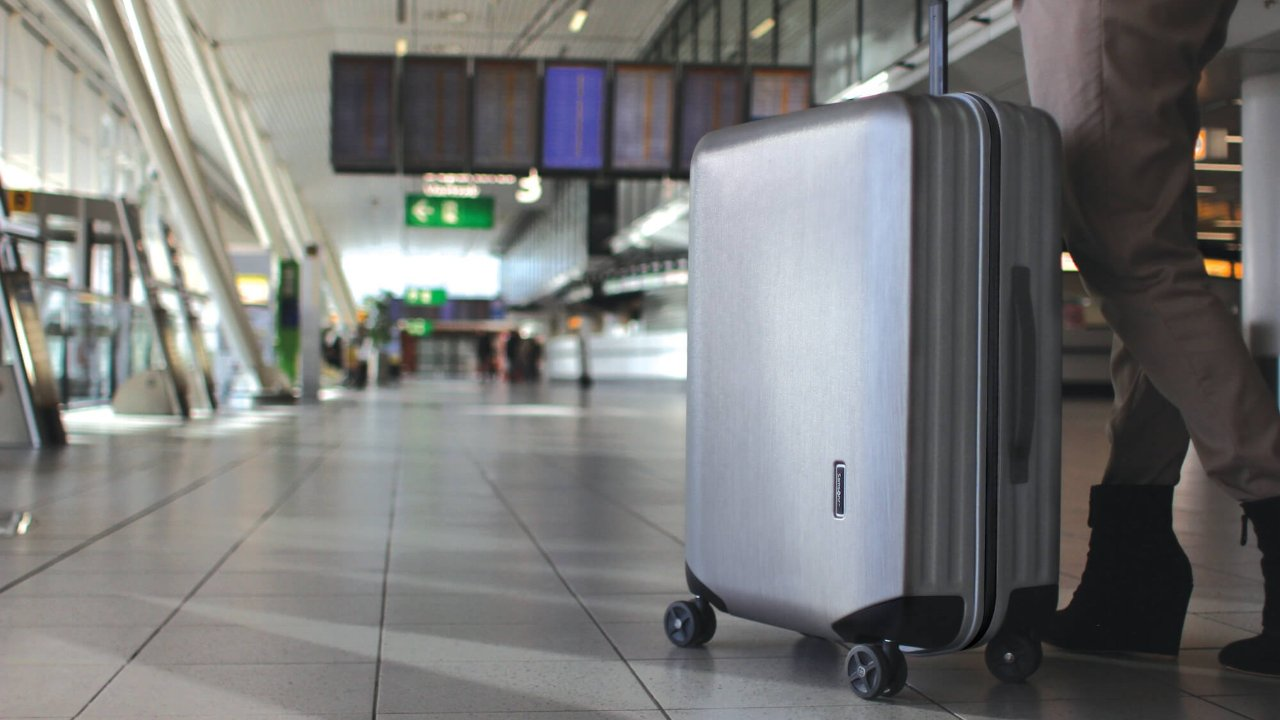box: (684, 91, 1061, 653)
handle: (1009, 267, 1037, 484)
wheel: (843, 642, 909, 701), (984, 628, 1041, 683), (662, 599, 717, 650)
